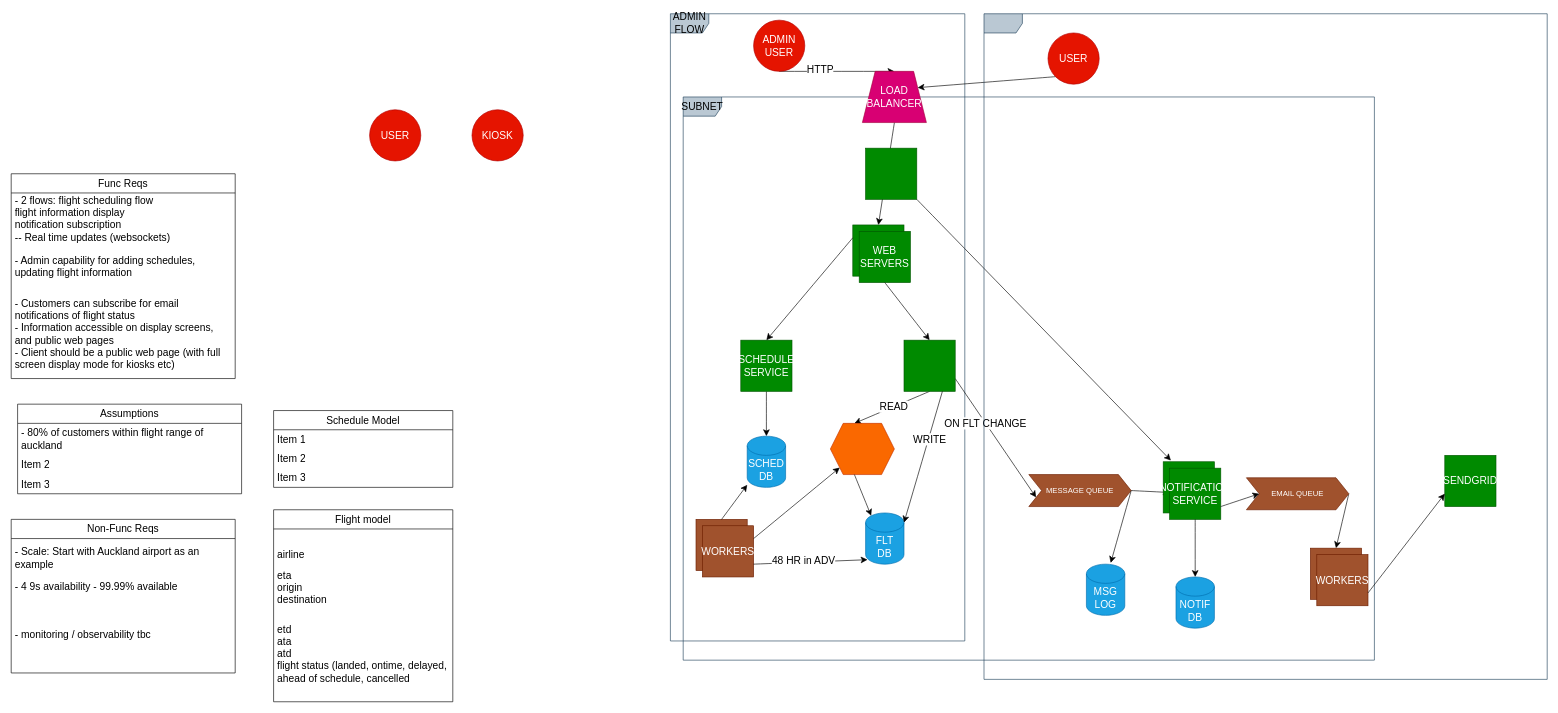
This 1558x713 diagram has some shape labels left out. Here are the shapes that lost their labels. From the top down, the centre of each, then its label:
point 891,173: API G
point 929,365: FLT SERVICE
point 1265,346: NOTIFICATION FLOW
point 862,449: FLT CACHE
